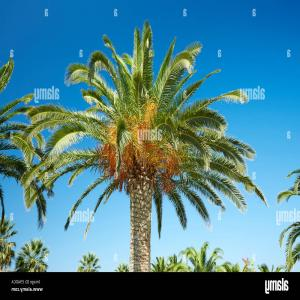palm tree: (21, 18, 269, 272), (276, 168, 300, 272), (15, 236, 50, 272), (0, 215, 18, 272), (76, 251, 100, 272)
